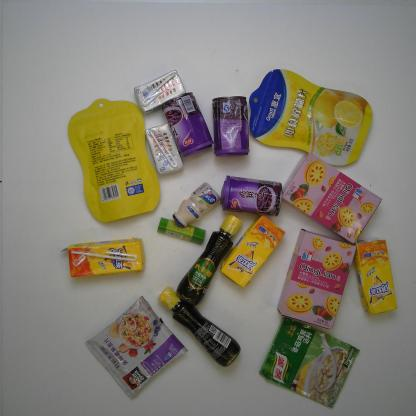Canned Food: (162, 91, 215, 158), (219, 174, 283, 218), (211, 96, 251, 159)
Dessert: (278, 151, 382, 245), (276, 227, 357, 331)
Dried Fruit: (248, 68, 374, 168), (67, 98, 161, 226)
Drink: (220, 214, 286, 288), (353, 238, 399, 316), (61, 237, 145, 278)
Instant Drink: (85, 295, 189, 401)
Milk: (132, 68, 188, 113), (172, 181, 221, 228), (146, 123, 184, 176)
Seasoner: (258, 314, 360, 408), (157, 285, 242, 367), (175, 213, 243, 307)
Stationery: (156, 215, 206, 246)
